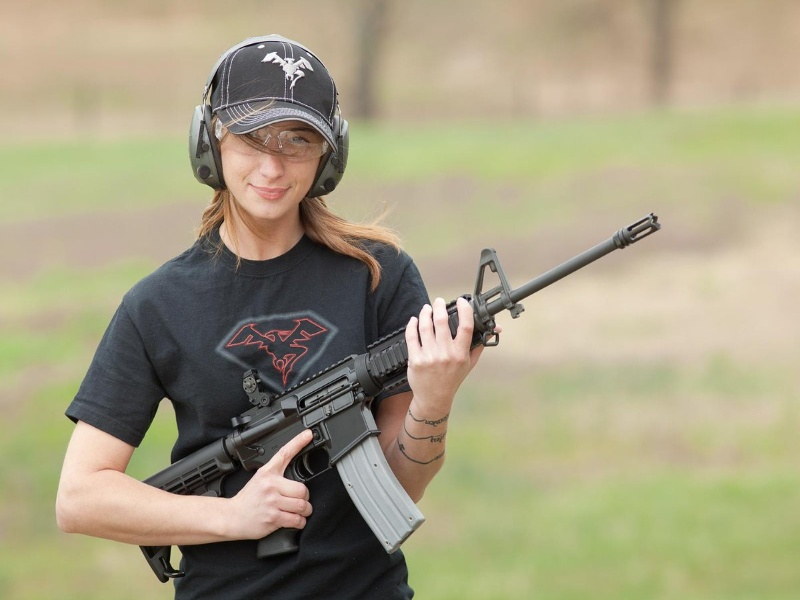person: (57, 35, 503, 600)
weapon: (138, 212, 659, 582)
